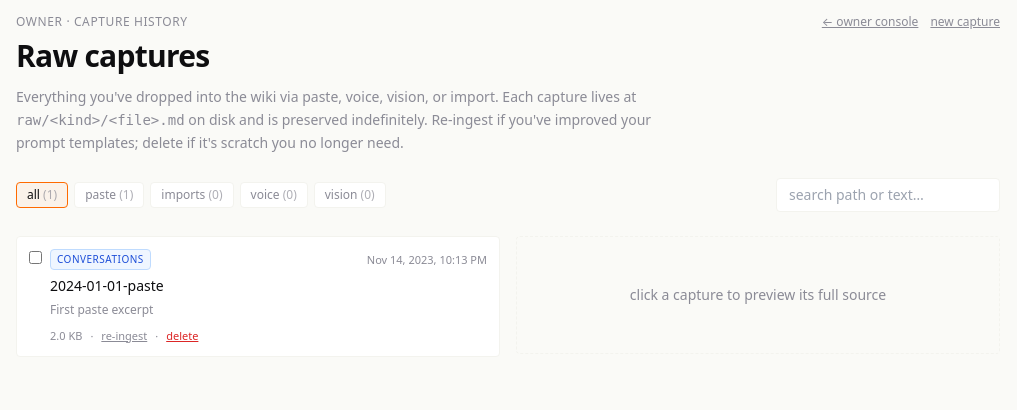
Test case: CapturesPage › reports pages drafted by the hosted re-ingest fallback
The image size is (1017, 410).
Click the button "re-ingest".
click(124, 336)  # box [101,328,147,344]
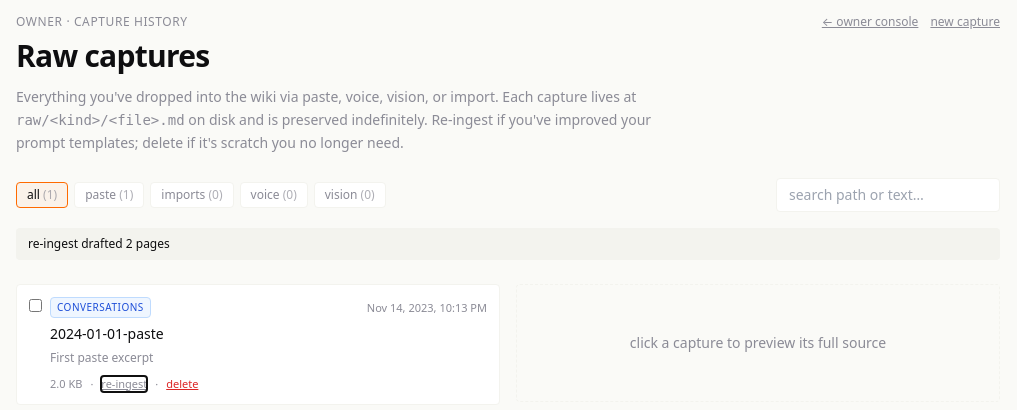
Expected: the text "re-ingest drafted 2 pages" is shown, [16,228,1000,260]
